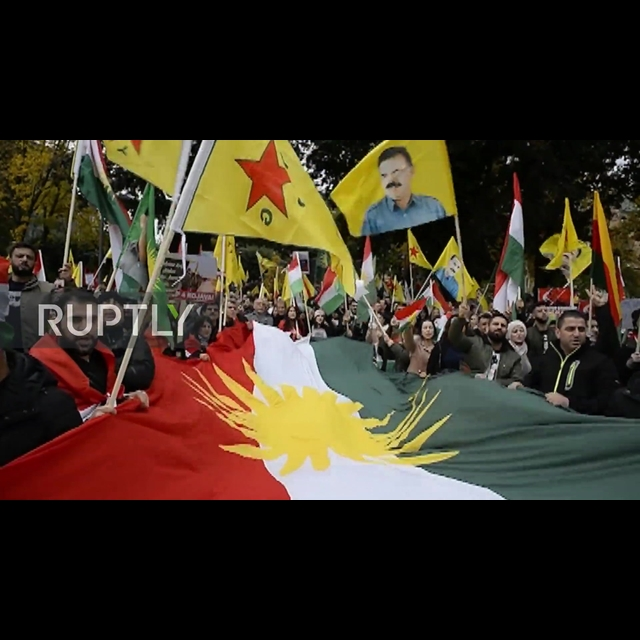APO: (371, 152, 427, 214)
